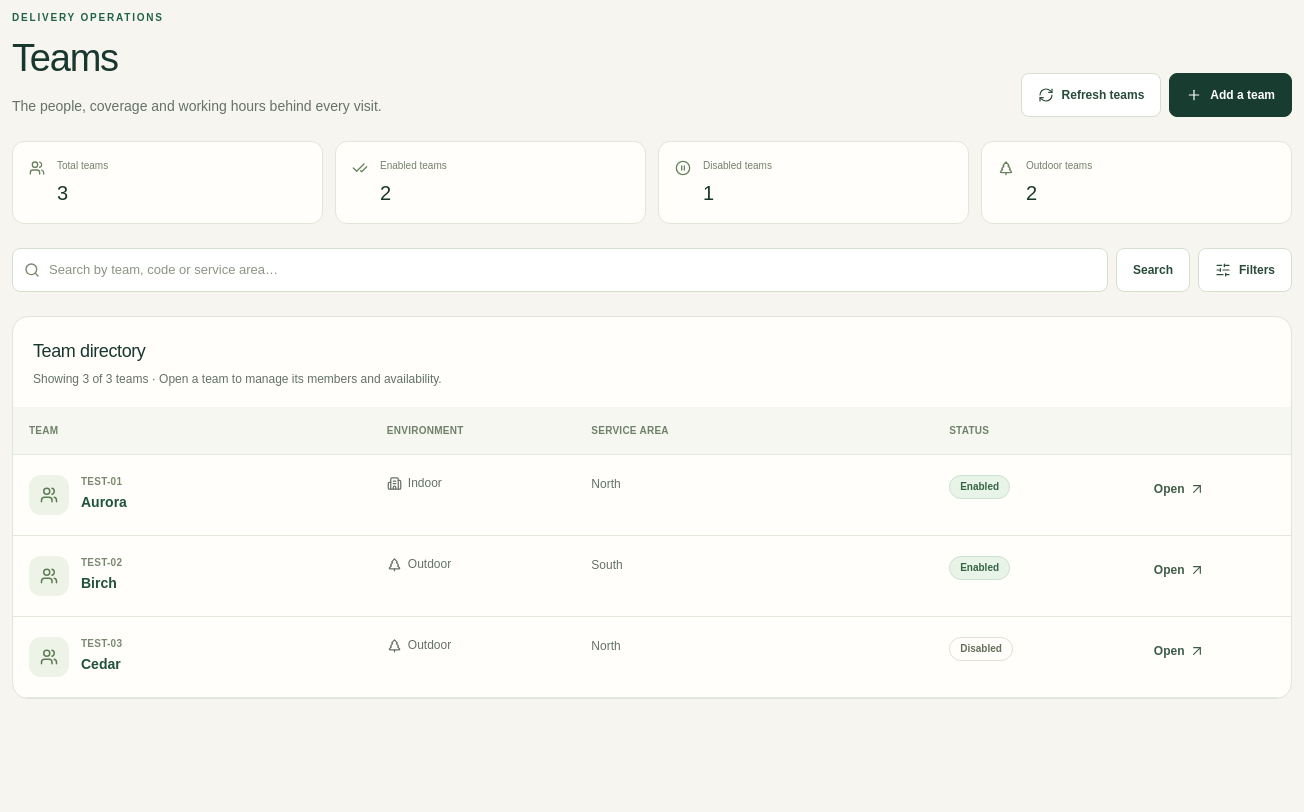
modern team directory › clears loaded team names and totals when a later directory read is forbidden
expect the table named "Teams" is shown: met, box 13,406 -> 1291,698
Click the button "Refresh teams". click: (1091, 95)
box: 1021,73 -> 1161,117
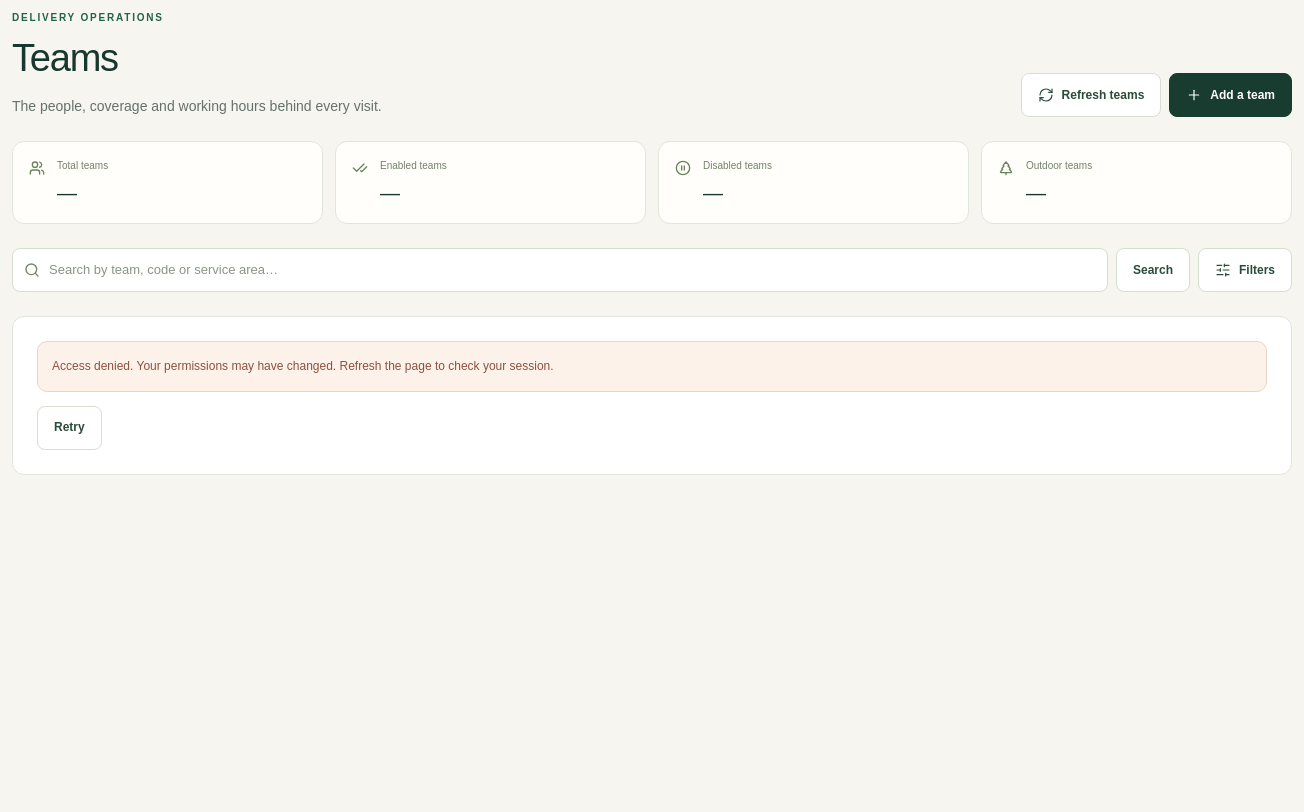
expect the message shows "Access denied": met, box 52,358 -> 554,372
expect the text "Aurora" is gone: met
expect the text "Birch" is gone: met
